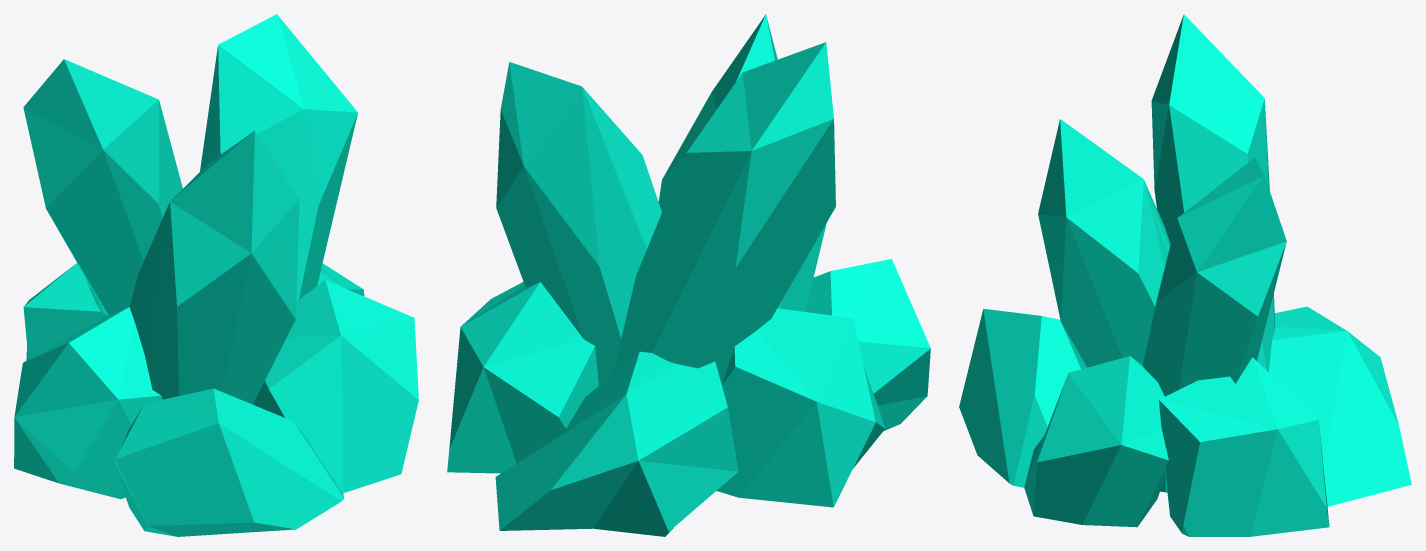
File: Crystal small.fbx
3 renders of one model, left to right at view 1: azimuth 30°, elevation 25°; view 2: azimuth 150°, elevation 25°; view 3: azimuth 270°, elevation 25°, orthographic. The views are drawn at different scales.
Visible parts, largest first — view 1: Small Crystal; view 2: Small Crystal; view 3: Small Crystal.
Part boxes in pixels (x1,y1,x2,y2): Small Crystal: [14, 14, 418, 536]; Small Crystal: [447, 14, 930, 536]; Small Crystal: [959, 14, 1411, 536].
Size of the model in its own units: 92.01 by 101 by 107.
